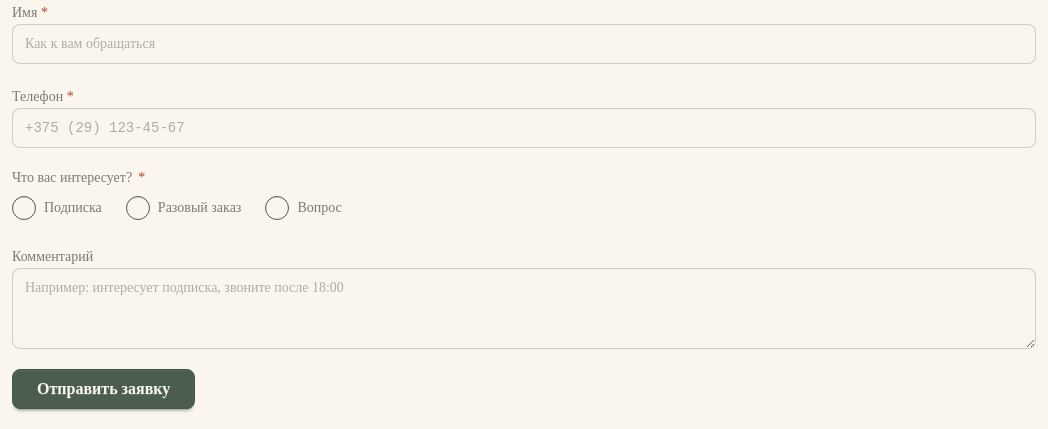
Test: RequestForm › passes raw digits through while typing and formats a valid number on blur
The width and height of the screenshot is (1048, 429).
Type "+3" into the field labelled "Телефон *" at [524, 128], box [12,108,1036,148]
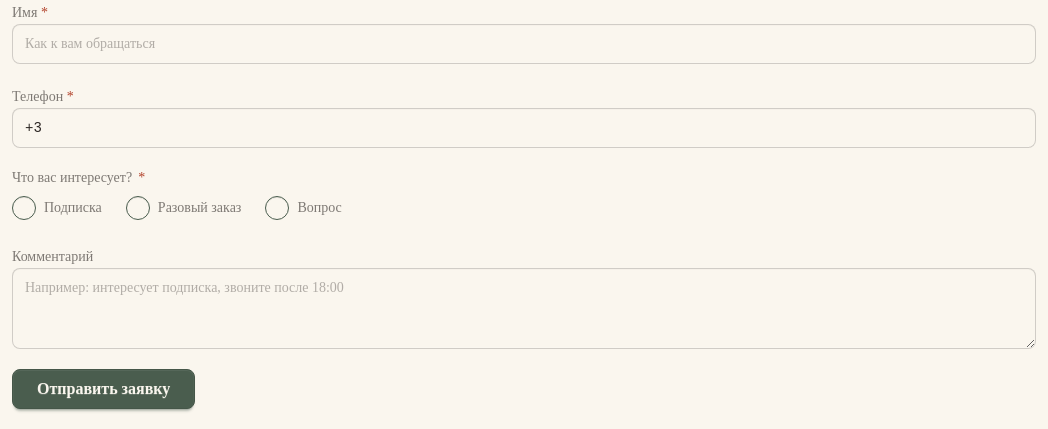
Replace the text in the field labelled "Телефон *" with "+375291234567" at [524, 128], box [12,108,1036,148]
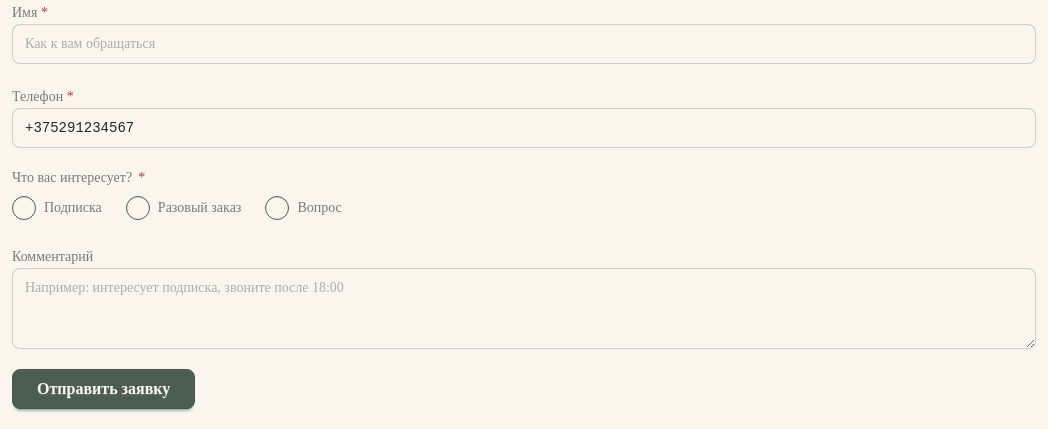
Leave the field labelled "Телефон *", box [12,108,1036,148]
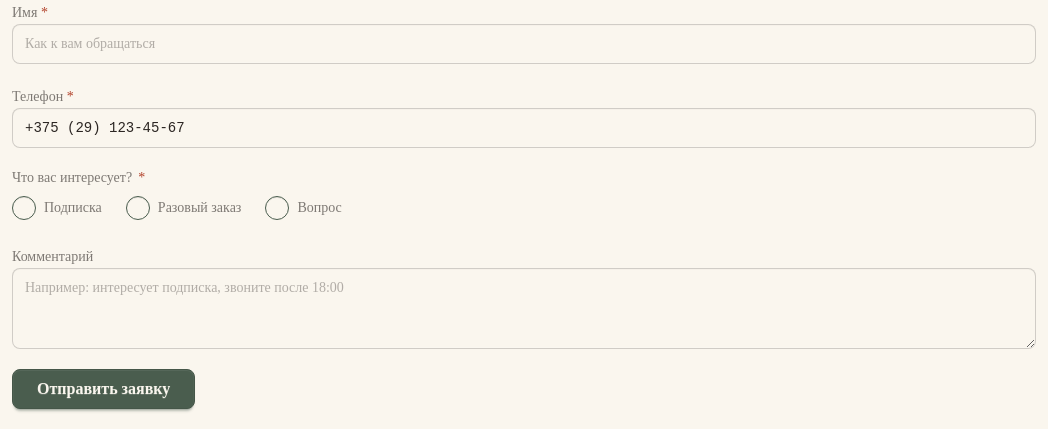
Expected: the field labelled "Телефон *" holds "+375 (29) 123-45-67", [12,108,1036,148]
